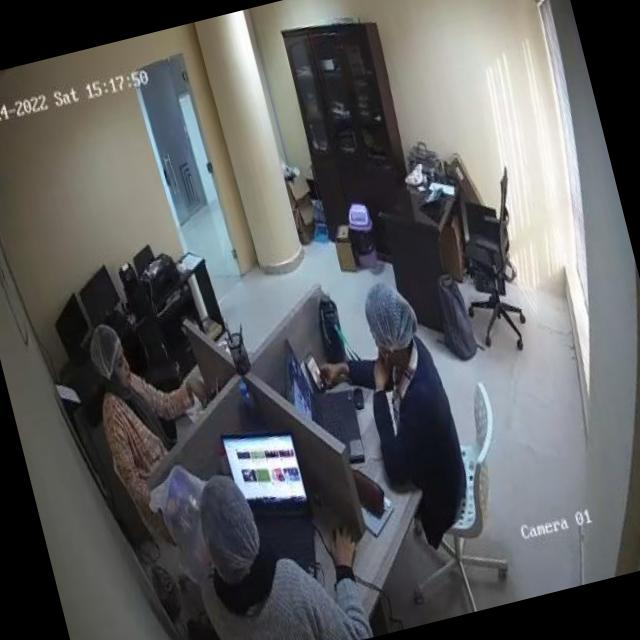hairnet: (193, 470, 263, 574), (358, 277, 420, 354), (90, 326, 121, 371)
